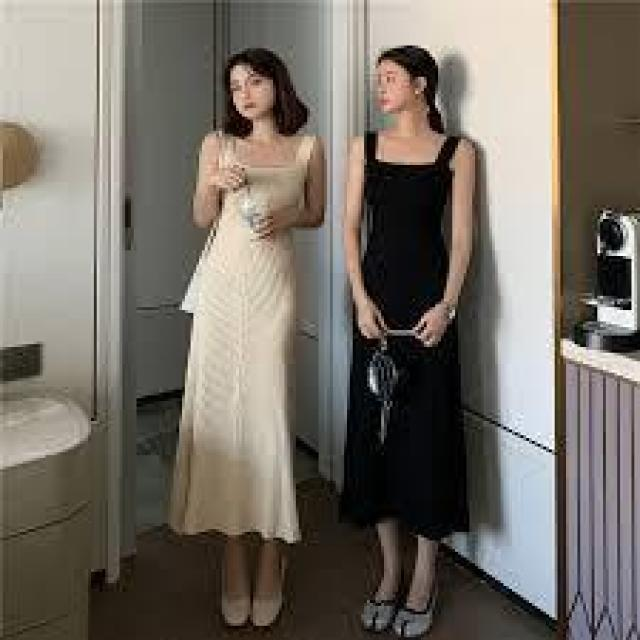dress: (322, 118, 520, 545), (166, 131, 334, 552)
